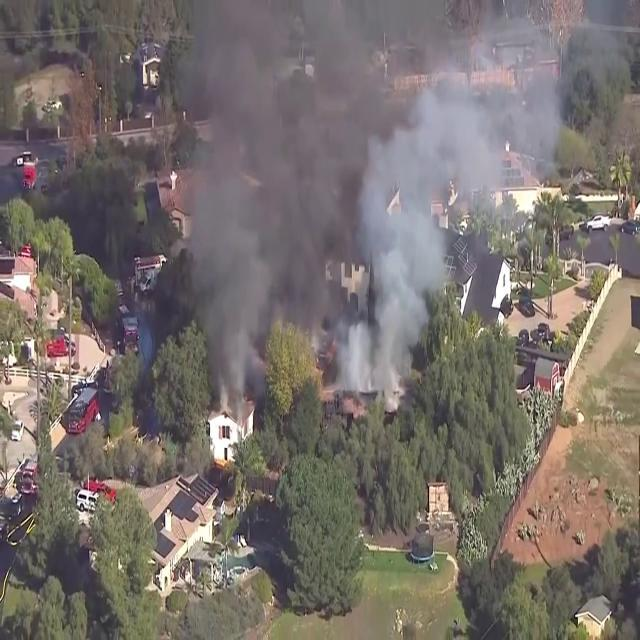Smoke: (162, 0, 556, 396)
